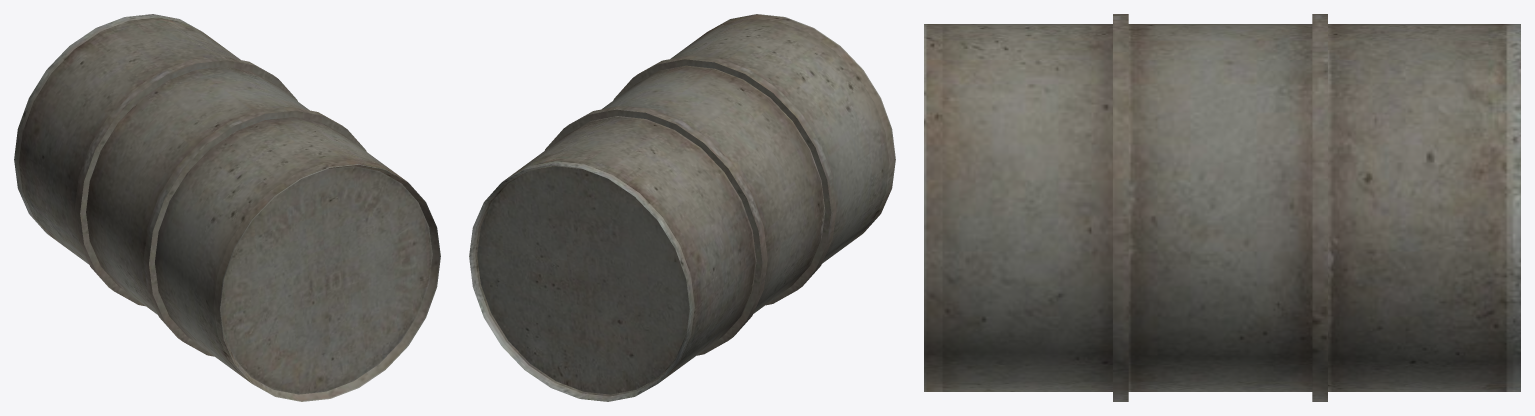
Rendered from prop_barrel_silver_wet.glb.
3 views of the same model, side by side, from view 1: azimuth 30°, elevation 25°; view 2: azimuth 150°, elevation 25°; view 3: azimuth 270°, elevation 25° (orthographic). The views are drawn at different scales.
Size of the model in its own units: 28.93 by 28.93 by 44.32.
Materials: 1 (1 with a texture image).
